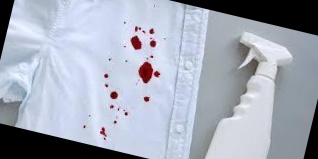blood: (106, 104, 131, 127), (136, 60, 156, 86), (127, 34, 144, 51), (134, 25, 155, 36), (98, 127, 108, 140), (109, 91, 118, 100), (143, 95, 151, 102), (150, 40, 157, 47), (102, 73, 109, 79), (103, 83, 110, 89)
